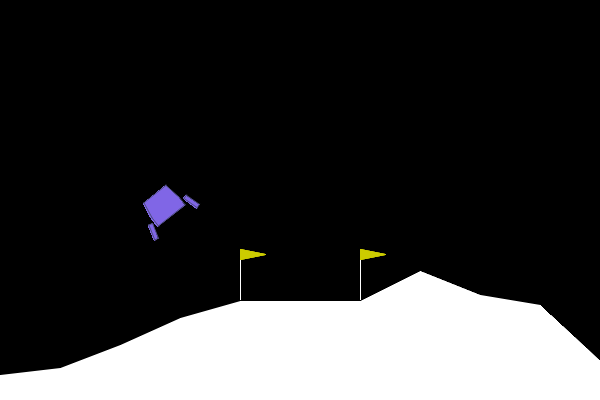lander: (130, 174, 201, 243)
